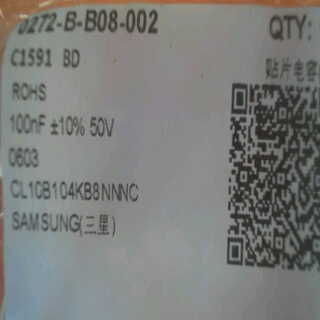100nF: (4, 107, 48, 141)
